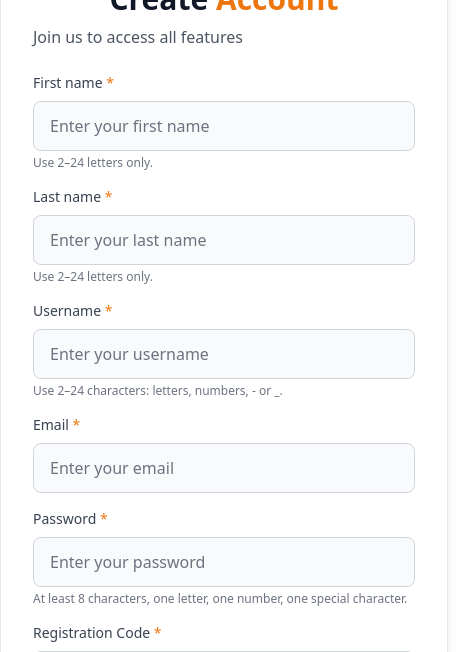
Test: RegisterForm › shows error message for invalid registration code
Type "John" into the field labelled "First name *" at [224, 126], box [33,101,415,151]
Type "Doe" into the field labelled "Last name *" at [224, 240], box [33,215,415,265]
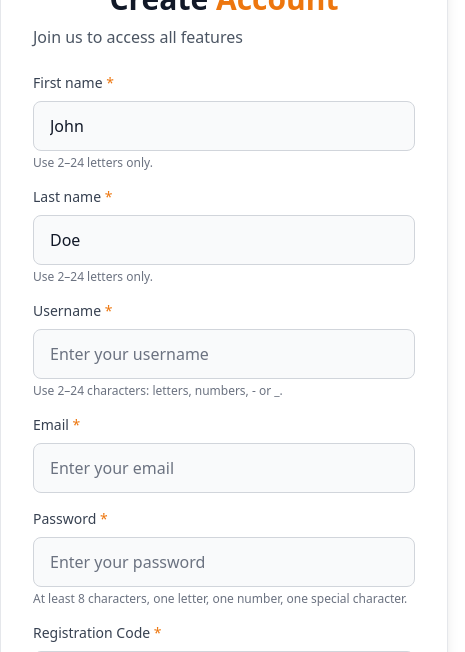
Type "johndoe" into the field labelled "Username *" at [224, 354], box [33,329,415,379]
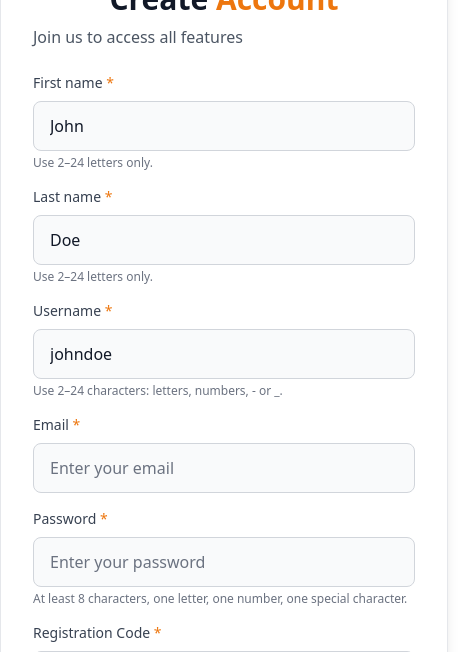
Type "john@example.com" into the field labelled "Email *" at [224, 468], box [33,443,415,493]
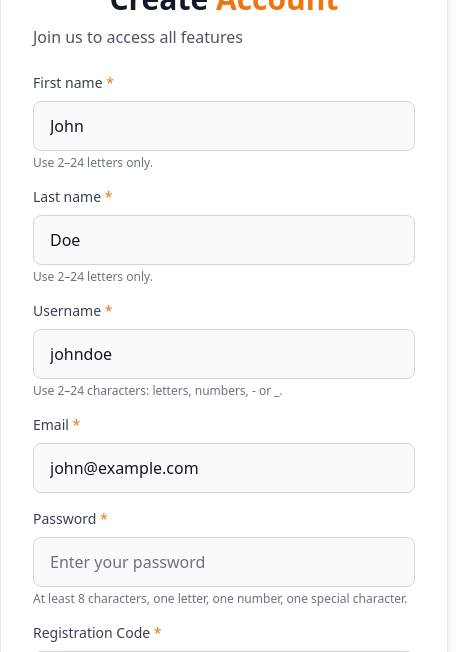
Type "SecurePass123!" into the password field labelled "Password *" at [224, 562], box [33,537,415,587]
(page scrolled)
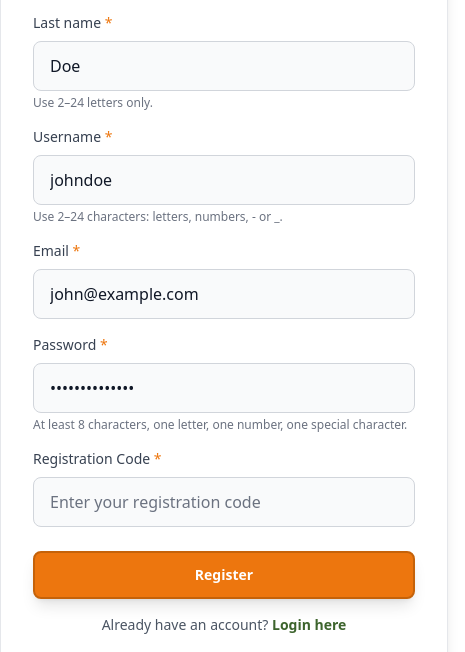
Type "TESTCODE" into the field labelled "Registration Code *" at [224, 502], box [33,477,415,527]
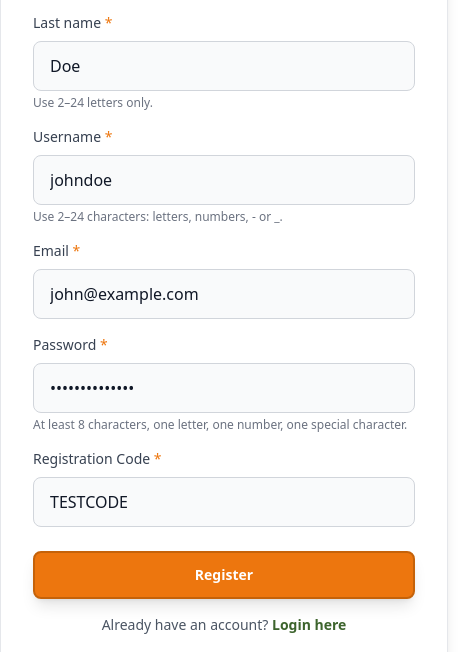
Click the button "Register" at [224, 575], box [33,551,415,599]
(page scrolled)
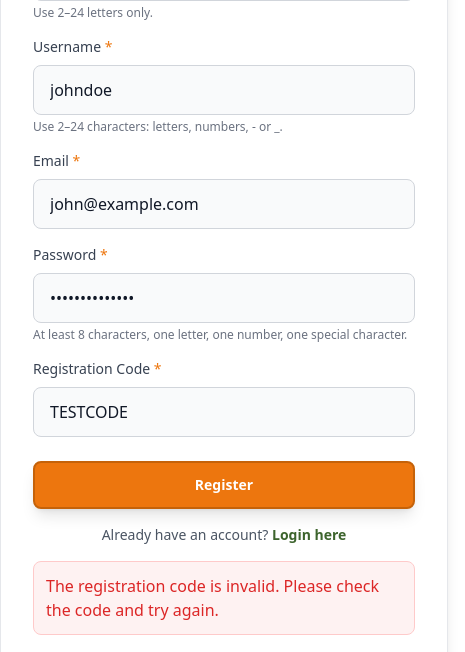
Check: the text "The registration code is invalid. Please check the code and try again." is shown, box [46,574,402,622]
